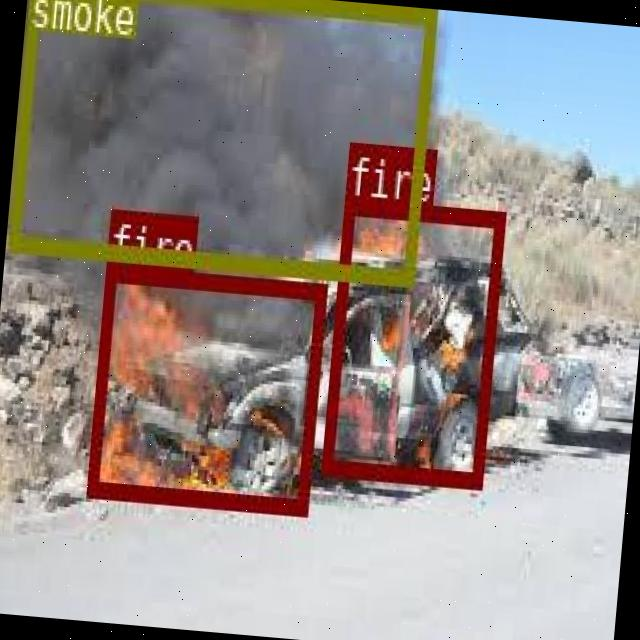fire: (86, 264, 325, 512), (320, 196, 503, 487)
smoke: (5, 0, 436, 284)
